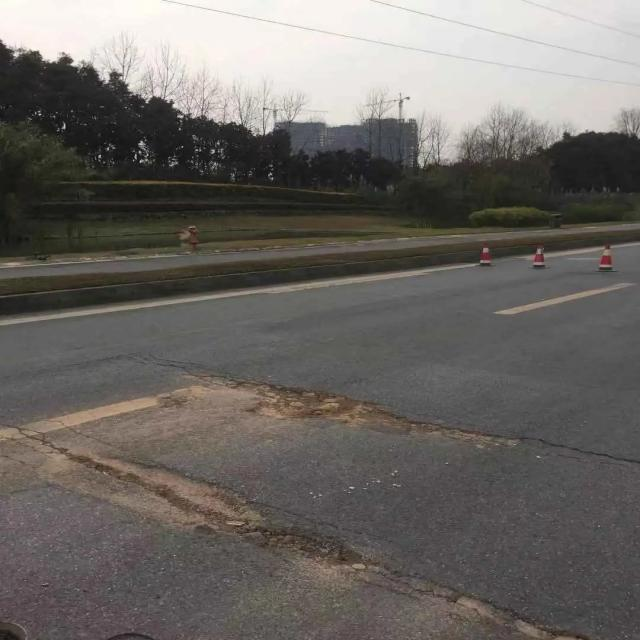Pothole: (16, 431, 560, 634), (166, 367, 554, 458)
